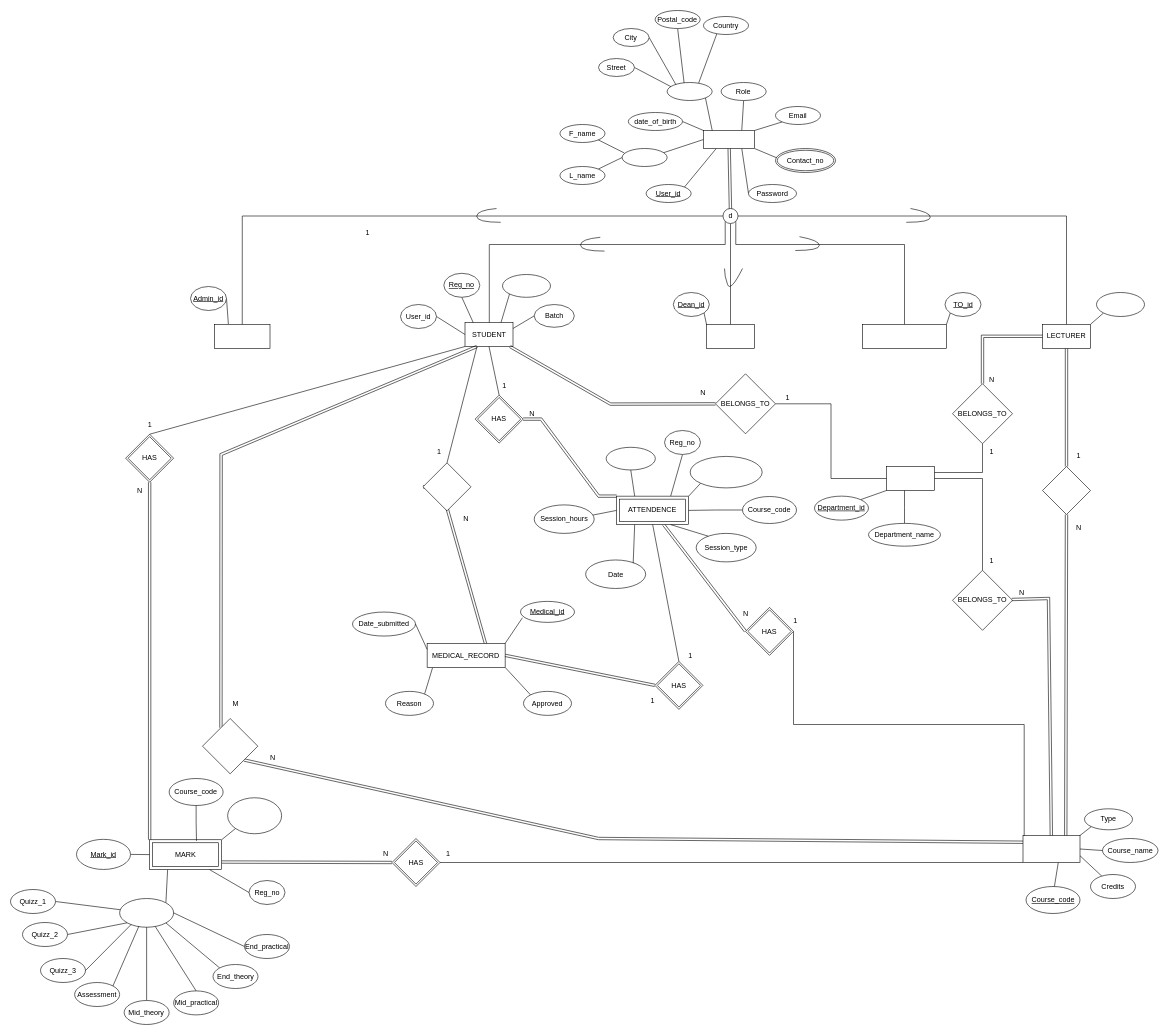
The diagram is 1169 pixels wide and 1035 high, and some of its shapes have lost their labels. The centre of each missing label's shape, as x and y in pixels:
"Address" belongs at [689,91].
"ADMIN" belongs at [242,336].
"Attendence_id" belongs at [726,472].
"COURSE" belongs at [1051,848].
"DEAN" belongs at [730,336].
"DEPARTMENT" belongs at [910,478].
"ENROLLS_IN" belongs at [230,746].
"Lecturer_id" belongs at [1120,304].
"Marks_type" belongs at [146,912].
"Marks_value" belongs at [254,815].
"Name" belongs at [644,157].
"Status" belongs at [630,458].
"Student_type" belongs at [526,285].
"SUBMITS" belongs at [446,486].
"TEACHES" belongs at [1066,490].
"TECHNICAL_OFFICER" belongs at [904,336].
"USER" belongs at [728,139].
